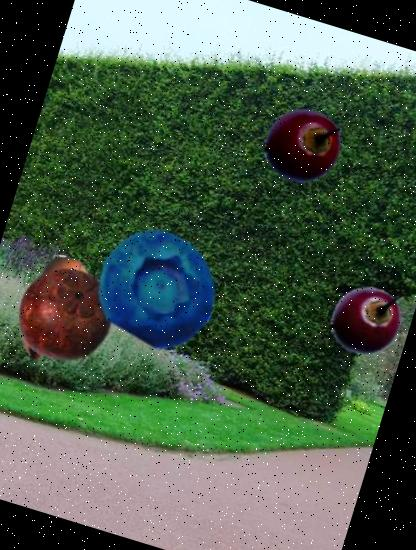Granadilla: (18, 247, 110, 338)
Huckleberry: (83, 213, 233, 363)
Mangostan: (2, 252, 126, 377)
Tamarillo: (256, 98, 352, 195), (322, 277, 413, 366)
